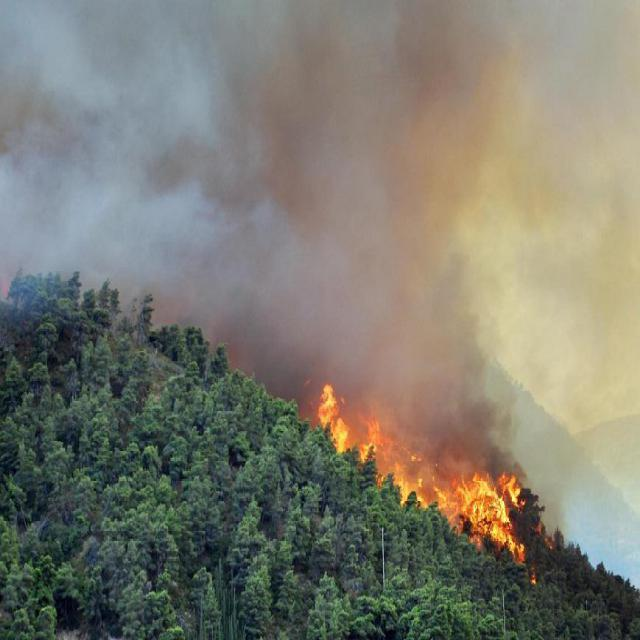Fire: (304, 364, 558, 602)
